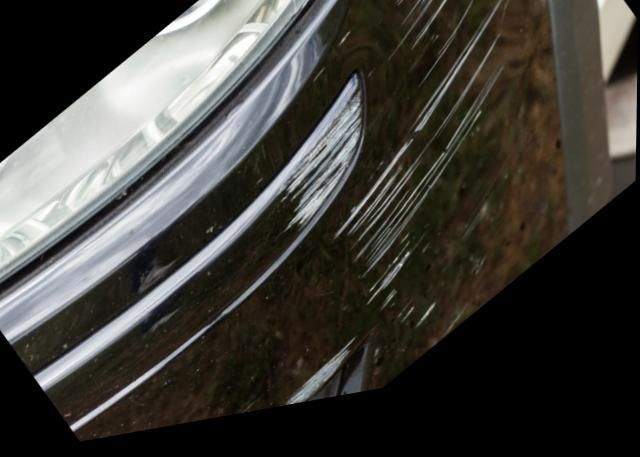rub: (278, 0, 519, 417)
